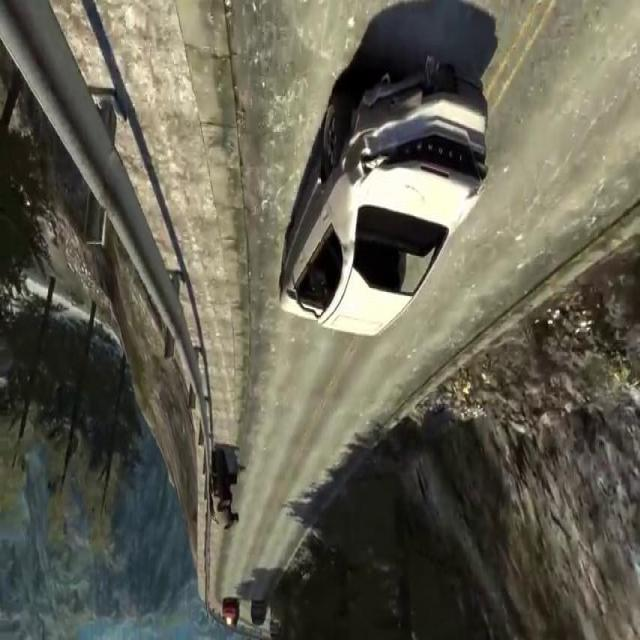severe: (206, 443, 240, 537)
